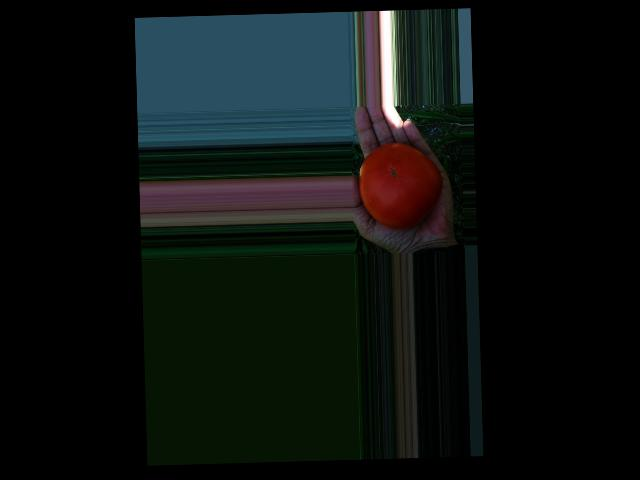tomato: (358, 141, 443, 229)
